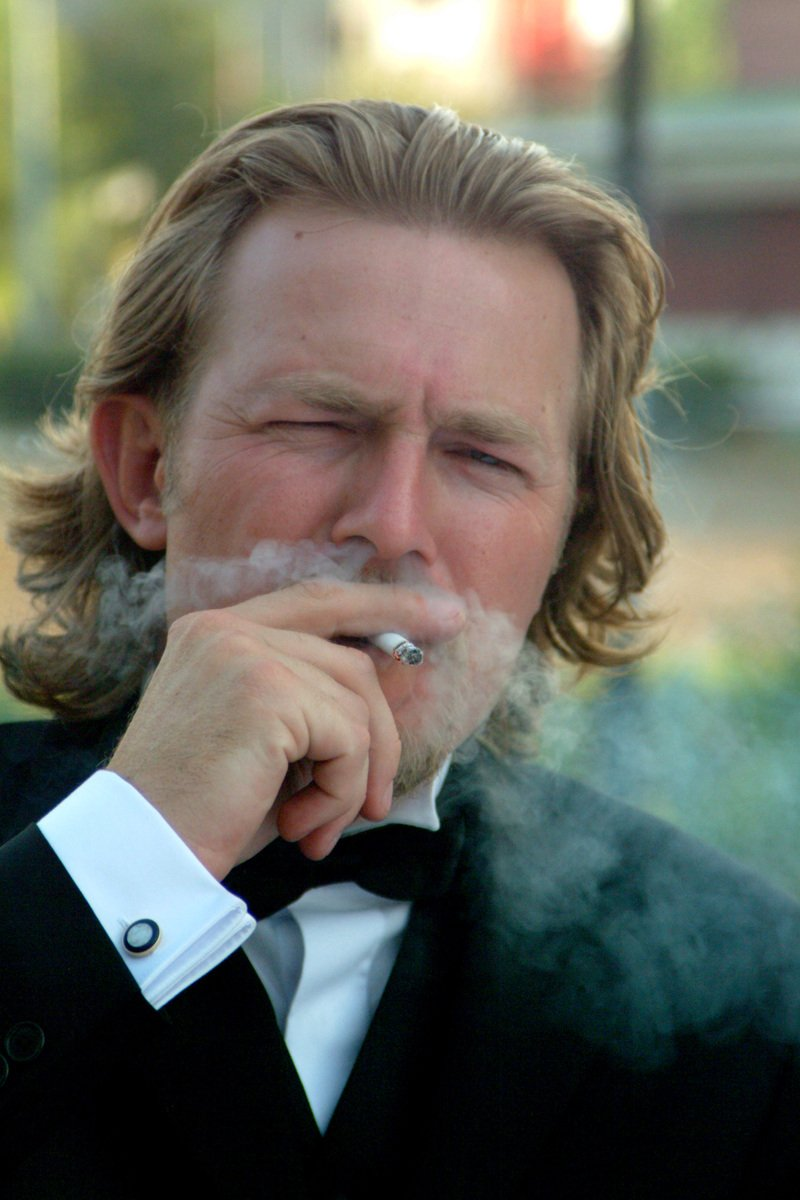cigarette: (371, 620, 429, 666)
